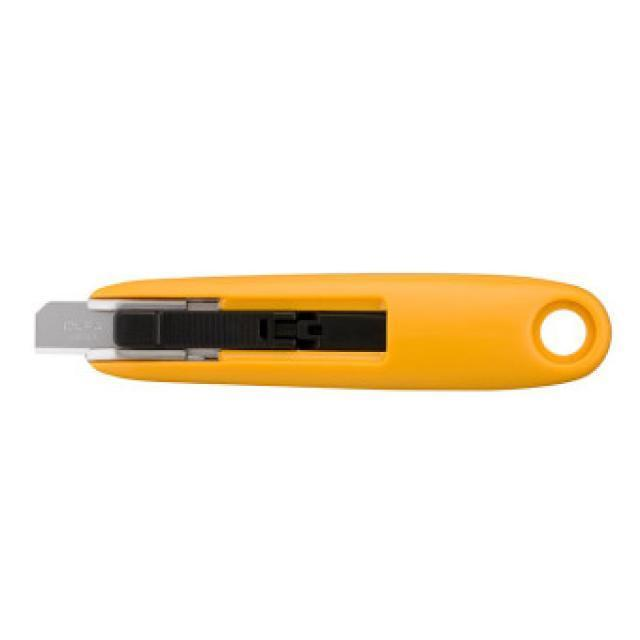cutter: (17, 236, 620, 406)
